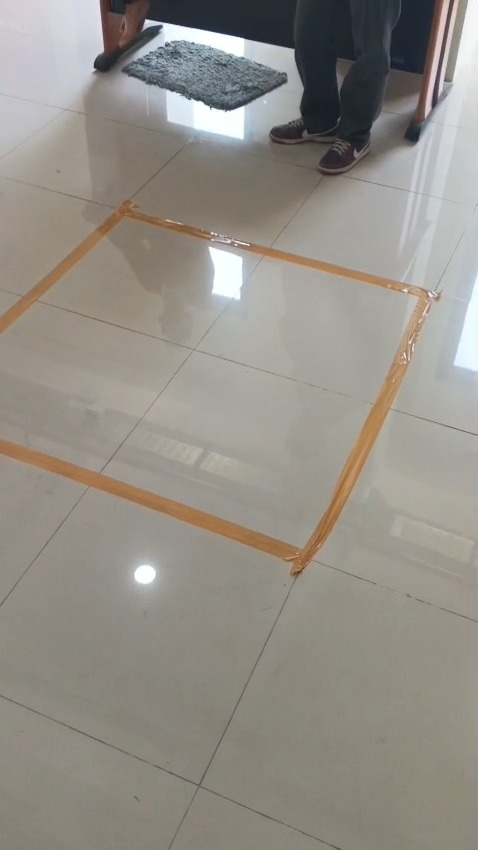floor marking: (0, 201, 439, 574)
